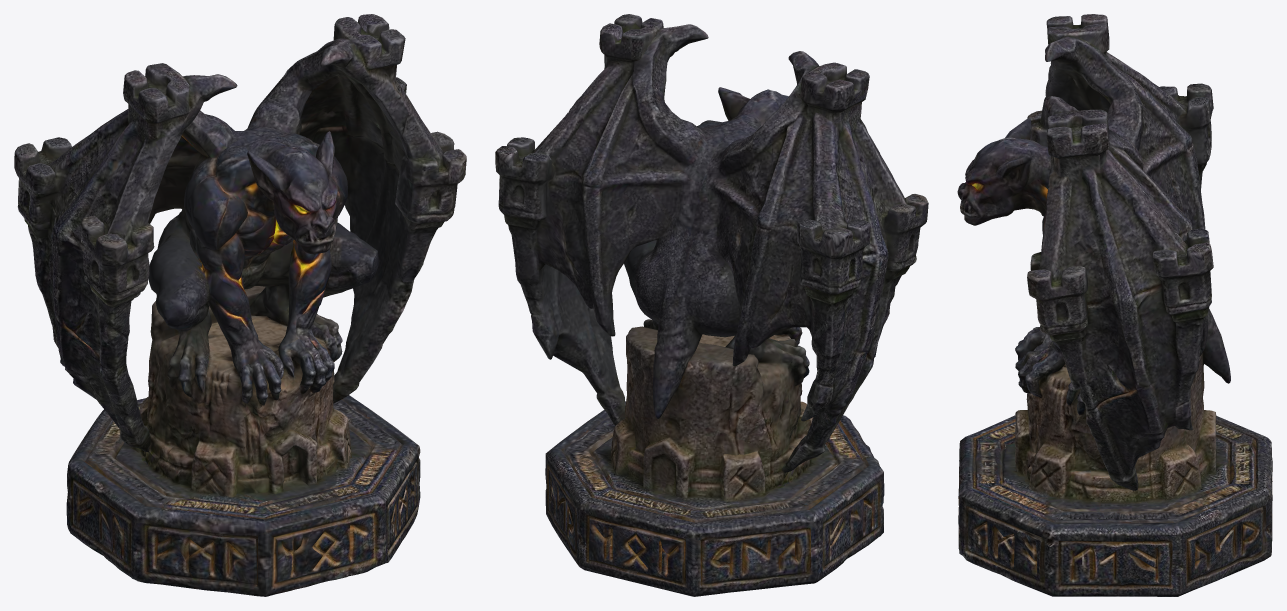
File: gargula_preto.glb
The picture shows the model from 3 angles, left to right: view 1: azimuth 30°, elevation 25°; view 2: azimuth 150°, elevation 25°; view 3: azimuth 270°, elevation 25°; orthographic projection. The views are drawn at different scales.
Parts seen in each view (by area): view 1: tripo_node_d7092197-d4ef-4d93-b332-8e43ed4706ad; view 2: tripo_node_d7092197-d4ef-4d93-b332-8e43ed4706ad; view 3: tripo_node_d7092197-d4ef-4d93-b332-8e43ed4706ad.
Boxes of the visible parts, <box> form: tripo_node_d7092197-d4ef-4d93-b332-8e43ed4706ad: <box>14,14,466,596</box>; tripo_node_d7092197-d4ef-4d93-b332-8e43ed4706ad: <box>495,14,928,596</box>; tripo_node_d7092197-d4ef-4d93-b332-8e43ed4706ad: <box>957,14,1272,596</box>.
Size of the model in its own units: 0.7833 by 0.9781 by 0.6021.
1 material, 1 textured.
